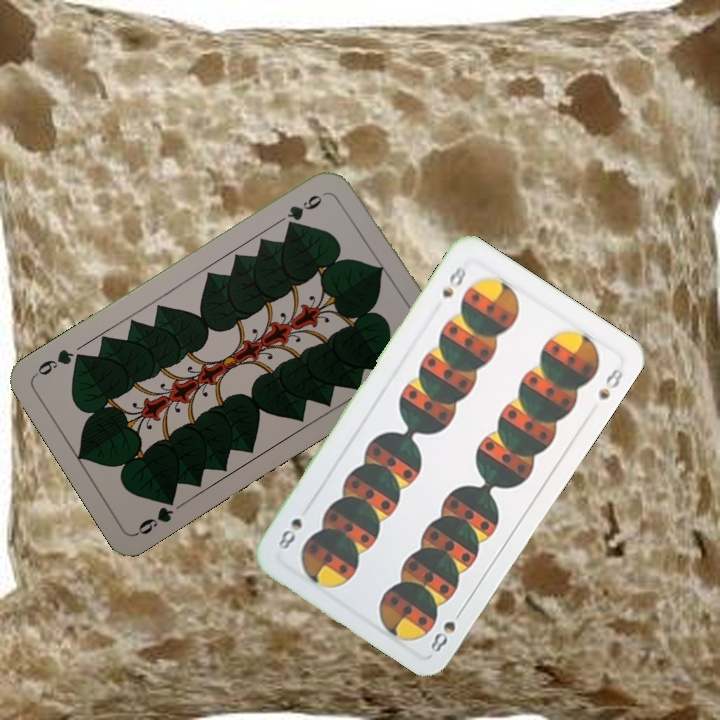G9: (132, 491, 178, 538), (282, 190, 325, 231)
S8: (426, 602, 467, 655), (438, 258, 469, 301)
